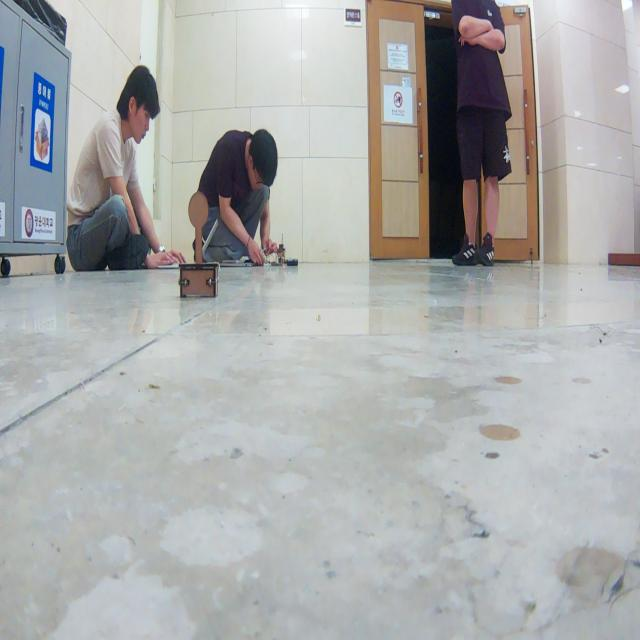target: (179, 191, 218, 300)
